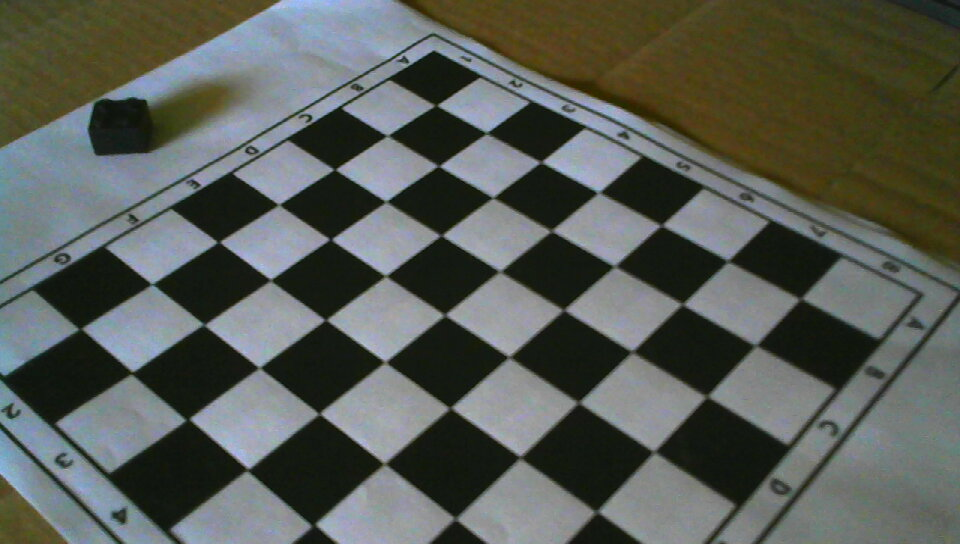bp: (88, 95, 153, 156)
